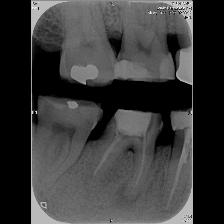apical_lesion: (68, 110, 164, 220)
